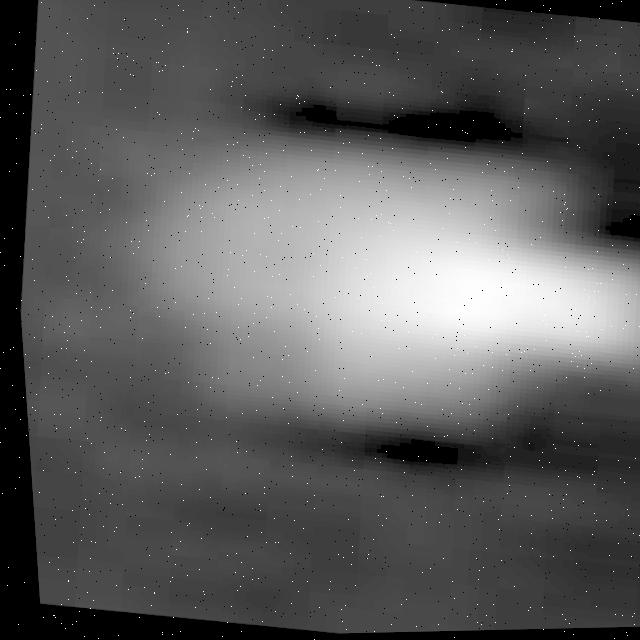person: (81, 99, 640, 476)
